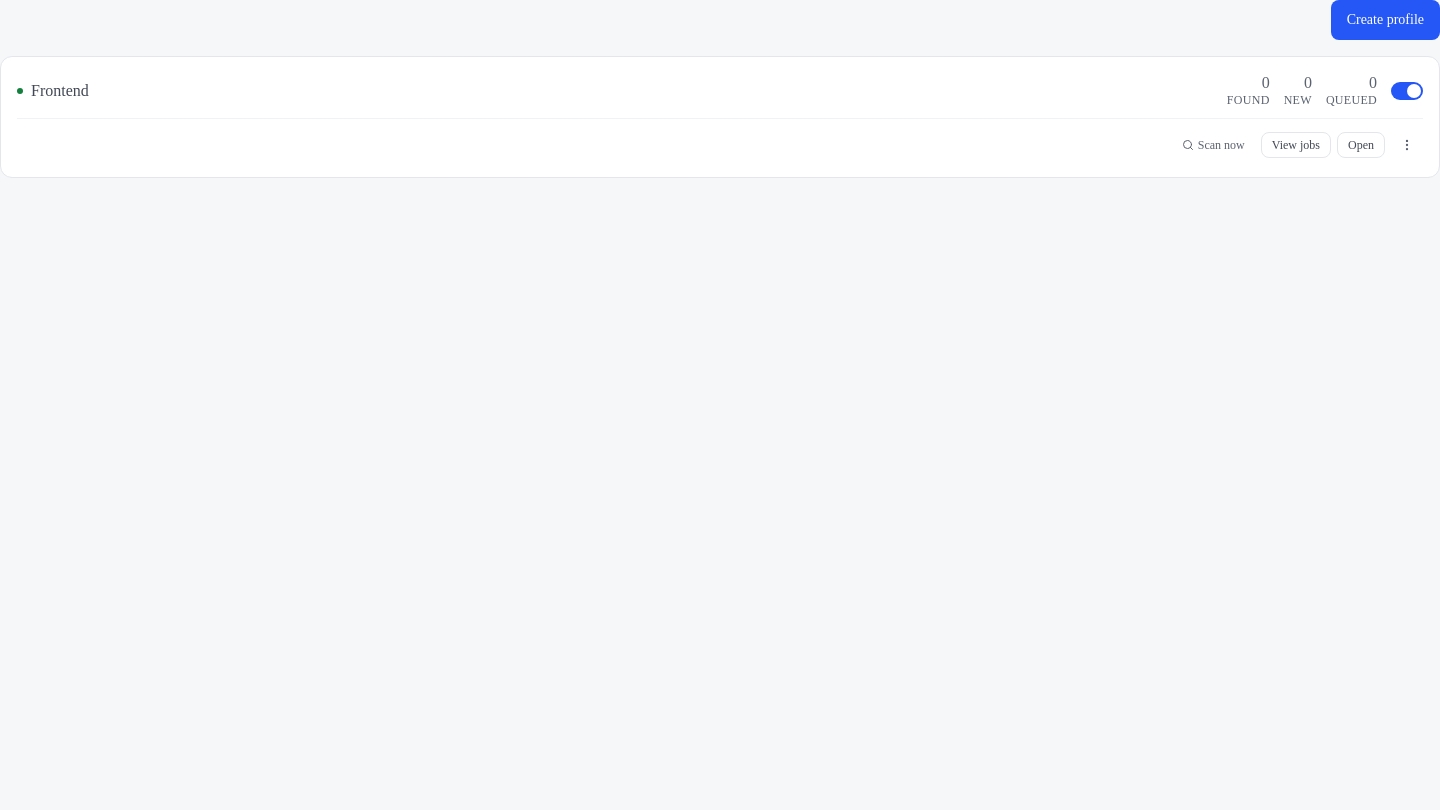
Test: ProfileList › closes on Cancel, keeps the list, and returns focus to the opener
Click the button "Create profile" at (1385, 20), box [1331,0,1439,40]
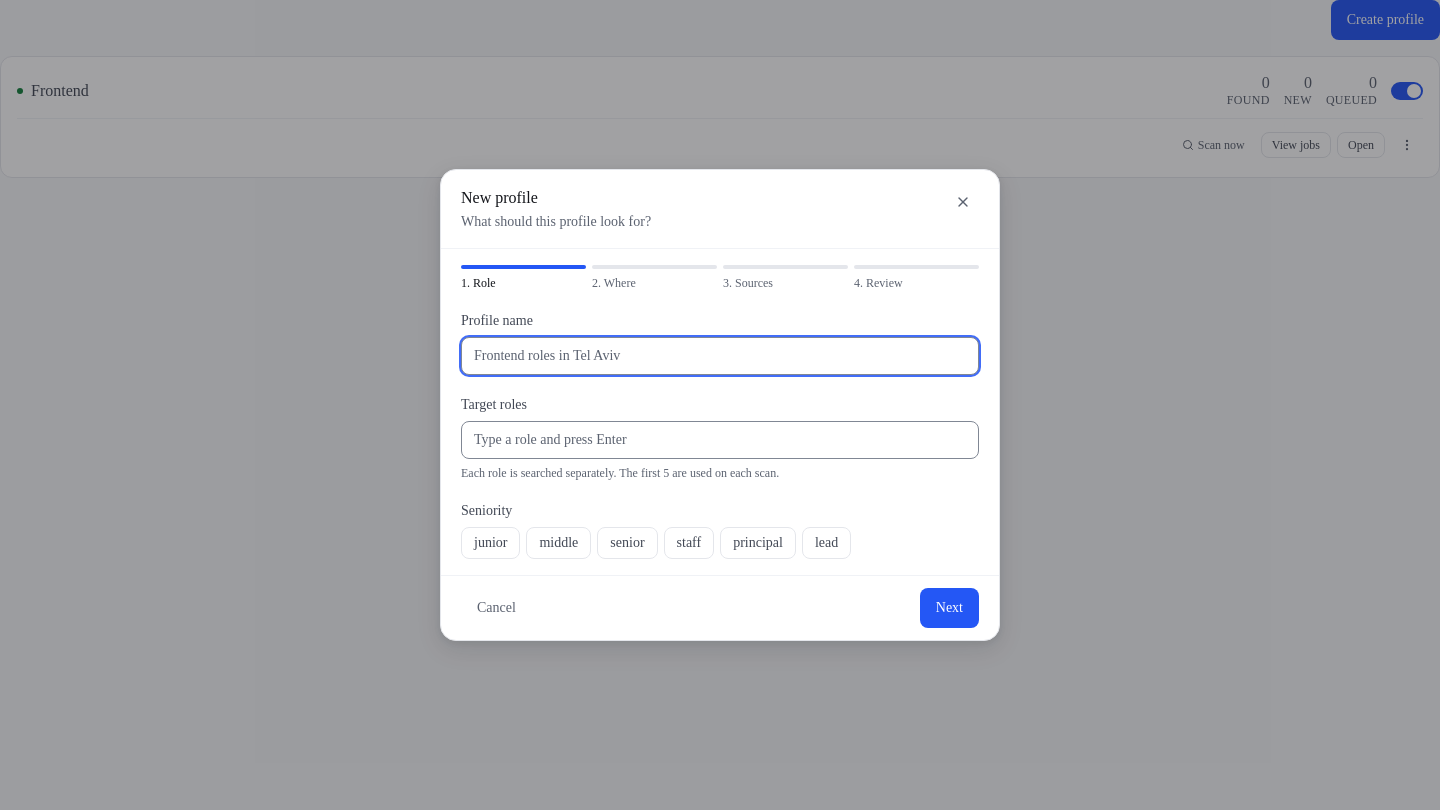
Click the button "Cancel" at (496, 608), box [461,588,532,628]
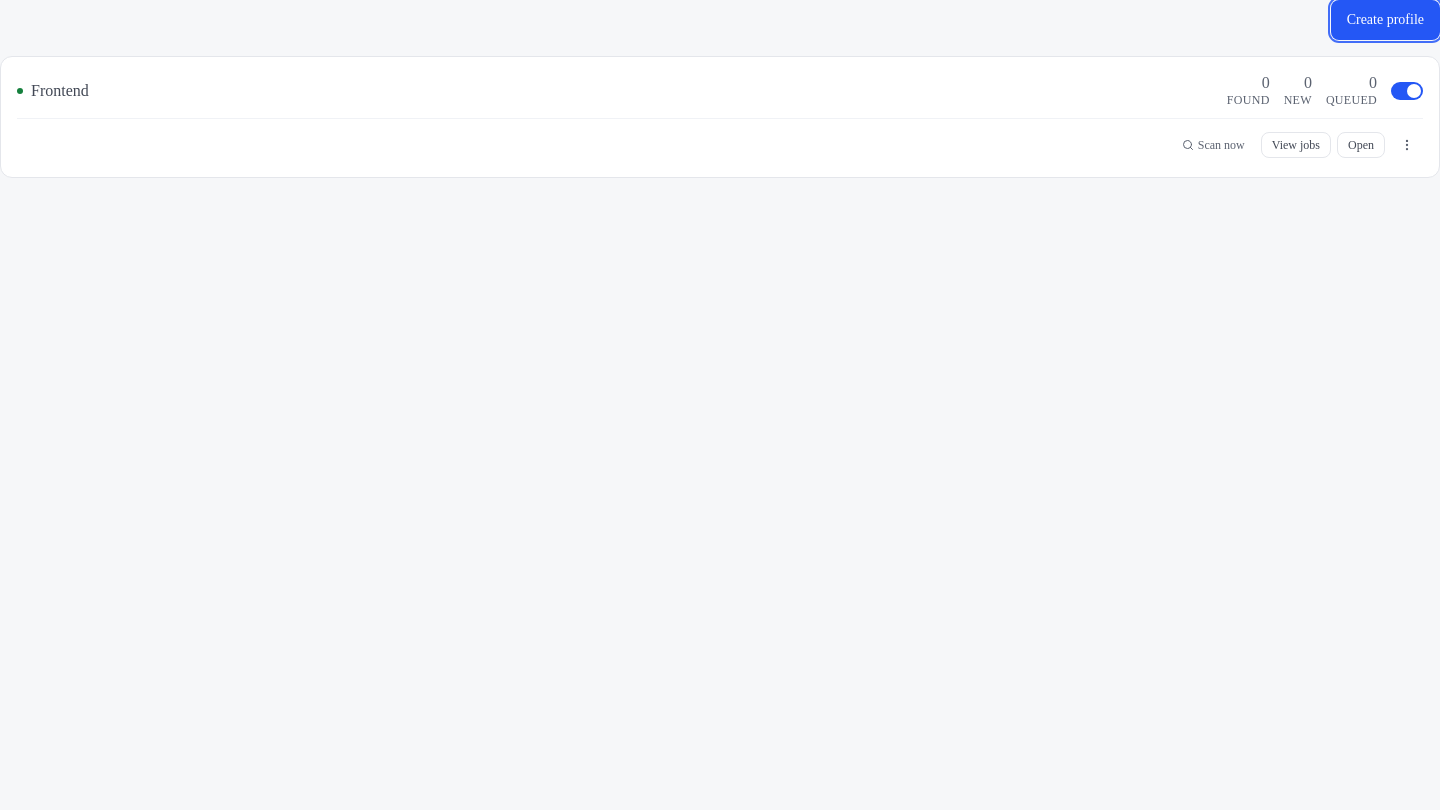
expect the link "Frontend" is shown: met, box [31,78,89,102]
expect the dialog is gone: met
